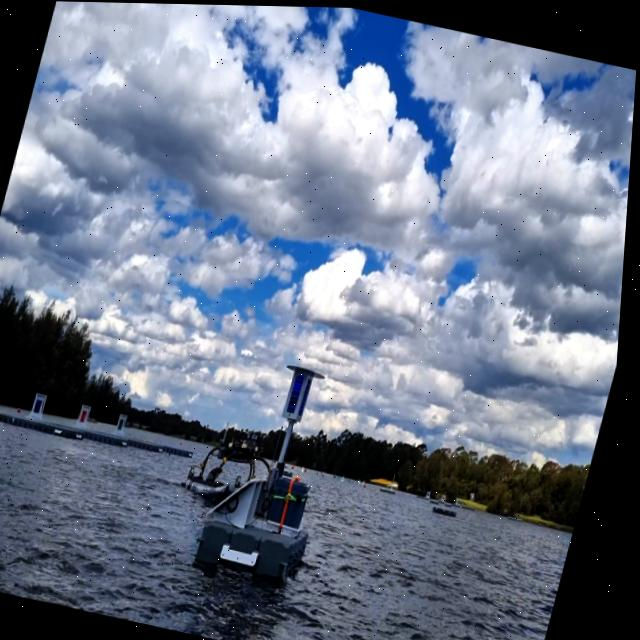led: (290, 369, 311, 417)
